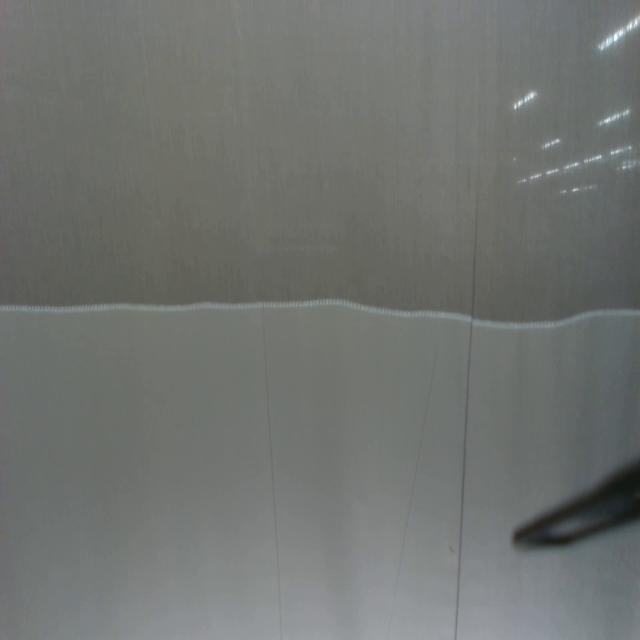crease: (385, 345, 440, 622), (454, 174, 485, 638), (259, 309, 287, 631)
hole: (444, 541, 456, 560)
